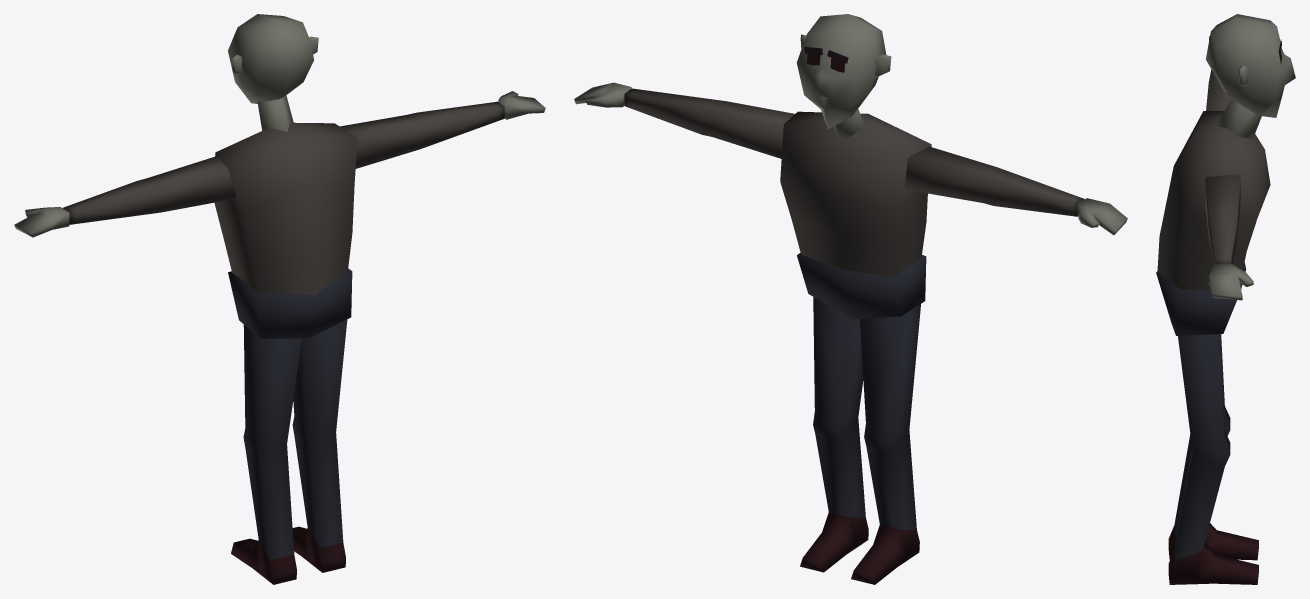
The model's file is character.obj.
The picture shows the model from 3 angles, left to right: view 1: azimuth 30°, elevation 25°; view 2: azimuth 150°, elevation 25°; view 3: azimuth 270°, elevation 25°; orthographic projection. The views are drawn at different scales.
Parts seen in each view (by area): view 1: Cube; view 2: Cube; view 3: Cube.
Part boxes in pixels (bbox=[...]): Cube: bbox=[14, 14, 545, 584]; Cube: bbox=[574, 14, 1127, 584]; Cube: bbox=[1156, 14, 1295, 584].
Size of the model in its own units: 2.01 by 1.97 by 0.455.
Materials: 1 (1 with a texture image).
